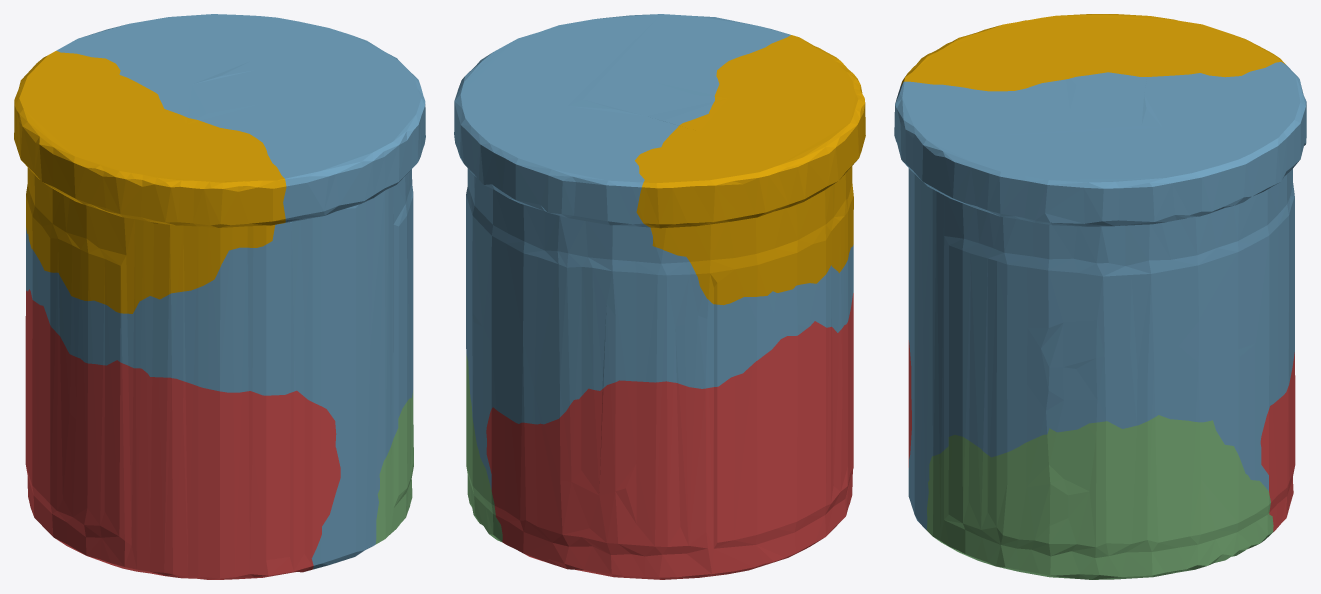
The model's file is mode_5_4pcs.glb.
3 views of the same model, side by side, from view 1: azimuth 30°, elevation 25°; view 2: azimuth 150°, elevation 25°; view 3: azimuth 270°, elevation 25° (orthographic).
Visible parts, largest first — view 1: piece_2.obj, piece_1.obj, piece_0.obj, piece_3.obj; view 2: piece_2.obj, piece_1.obj, piece_0.obj, piece_3.obj; view 3: piece_2.obj, piece_3.obj, piece_0.obj, piece_1.obj.
Boxes of the visible parts, box(x1,y1,x2,y2) form: piece_2.obj: box(26, 14, 425, 569); piece_1.obj: box(25, 289, 340, 579); piece_0.obj: box(14, 51, 286, 313); piece_3.obj: box(375, 390, 413, 544); piece_2.obj: box(454, 14, 853, 489); piece_1.obj: box(486, 293, 853, 579); piece_0.obj: box(635, 35, 865, 305); piece_3.obj: box(466, 354, 502, 542); piece_2.obj: box(894, 62, 1306, 529); piece_3.obj: box(926, 415, 1273, 579); piece_0.obj: box(900, 14, 1285, 91); piece_1.obj: box(908, 340, 1295, 531).
Size of the model in its own units: 0.9259 by 1 by 0.9247.
